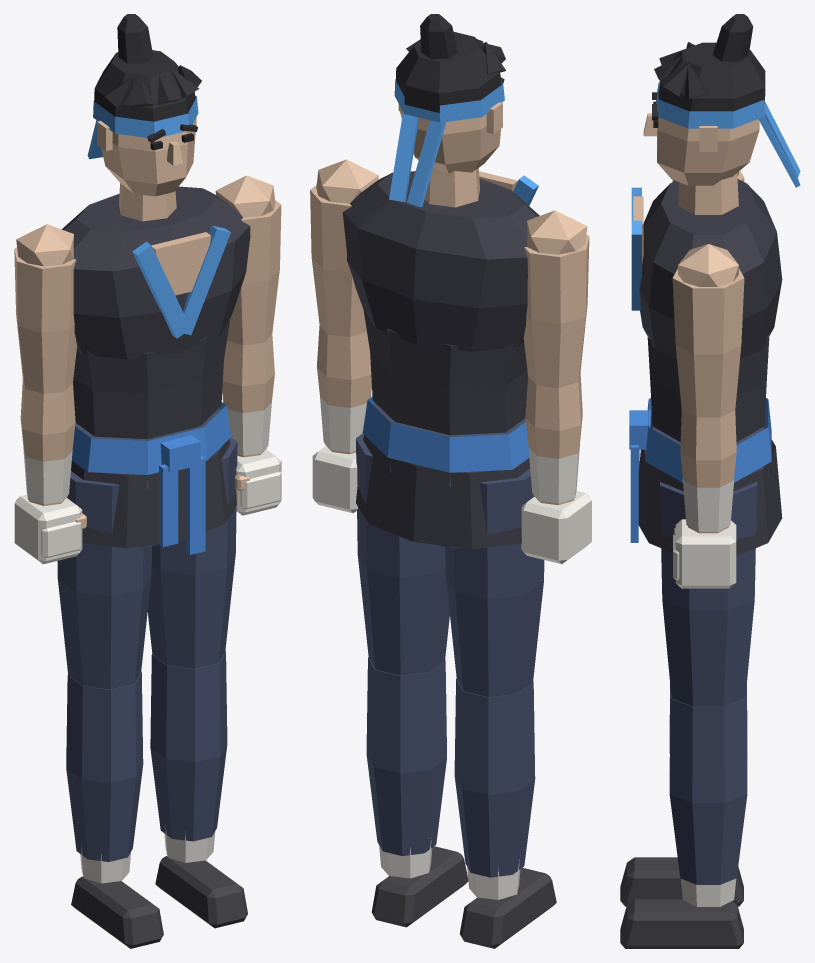
Rendered from Kaito.glb.
3 renders of one model, left to right at view 1: azimuth 30°, elevation 25°; view 2: azimuth 150°, elevation 25°; view 3: azimuth 270°, elevation 25°, orthographic. The views are drawn at different scales.
Parts seen in each view (by area): view 1: ChestMesh, ThighMesh_R, ShinMesh_L, ShinMesh_R, SpineMesh, ThighMesh_L, UpperArmMesh_R, GiSkirt, UpperArmMesh_L, BeltMesh, FootMesh_L, FootMesh_R (+24 smaller); view 2: ChestMesh, ThighMesh_R, ShinMesh_L, ShinMesh_R, SpineMesh, ThighMesh_L, GiSkirt, UpperArmMesh_R, BeltMesh, UpperArmMesh_L, HairCap, FootMesh_L (+18 smaller); view 3: ThighMesh_L, ChestMesh, ShinMesh_L, UpperArmMesh_L, FootMesh_L, SpineMesh, HeadMesh, GiSkirt, HairCap, ForeArmMesh_L, Fist_L, BeltMesh (+15 smaller).
Part boxes in pixels (box(x1,y1,x2,y2)): ChestMesh: box(61, 186, 250, 359); ThighMesh_R: box(57, 471, 151, 689); ShinMesh_L: box(150, 651, 227, 841); ShinMesh_R: box(66, 672, 143, 861); SpineMesh: box(73, 316, 230, 439); ThighMesh_L: box(147, 437, 237, 668); UpperArmMesh_R: box(14, 247, 77, 394); GiSkirt: box(71, 439, 236, 548); UpperArmMesh_L: box(227, 200, 281, 345); BeltMesh: box(72, 402, 230, 474); FootMesh_L: box(155, 856, 247, 928); FootMesh_R: box(71, 876, 163, 948); ChestMesh: box(342, 171, 539, 351); ThighMesh_R: box(445, 468, 544, 697); ShinMesh_L: box(366, 657, 446, 855); ShinMesh_R: box(454, 678, 535, 877); SpineMesh: box(363, 306, 527, 435); ThighMesh_L: box(356, 433, 449, 675); GiSkirt: box(356, 435, 529, 549); UpperArmMesh_R: box(523, 235, 589, 387); BeltMesh: box(362, 396, 529, 472); UpperArmMesh_L: box(310, 185, 366, 337); HairCap: box(396, 32, 501, 112); FootMesh_L: box(371, 846, 468, 927); ThighMesh_L: box(660, 482, 757, 706); ChestMesh: box(639, 179, 782, 359); ShinMesh_L: box(669, 687, 747, 884); UpperArmMesh_L: box(672, 269, 744, 417); FootMesh_L: box(620, 899, 743, 948); SpineMesh: box(647, 333, 769, 441); HeadMesh: box(657, 117, 759, 185); GiSkirt: box(638, 439, 782, 556); HairCap: box(658, 42, 765, 111); ForeArmMesh_L: box(680, 410, 736, 533); Fist_L: box(675, 519, 736, 588); BeltMesh: box(645, 398, 771, 482).
Size of the model in its own units: 0.5793 by 1.89 by 0.3419.
